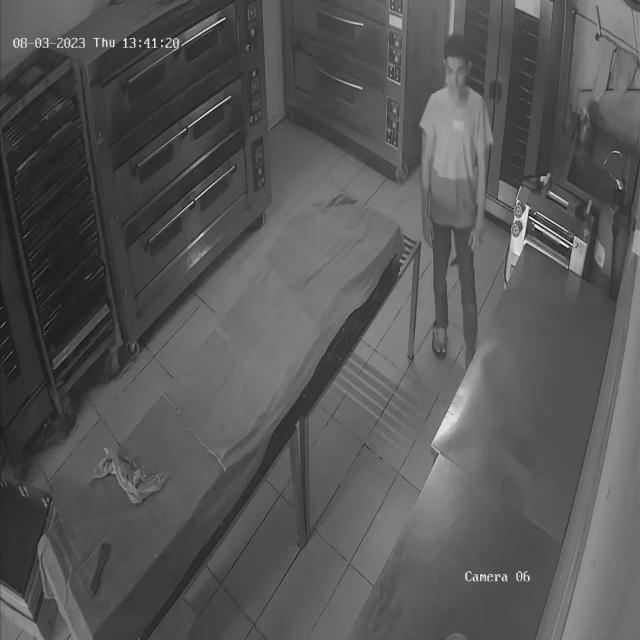Knife: (74, 528, 124, 594), (442, 235, 482, 278)
